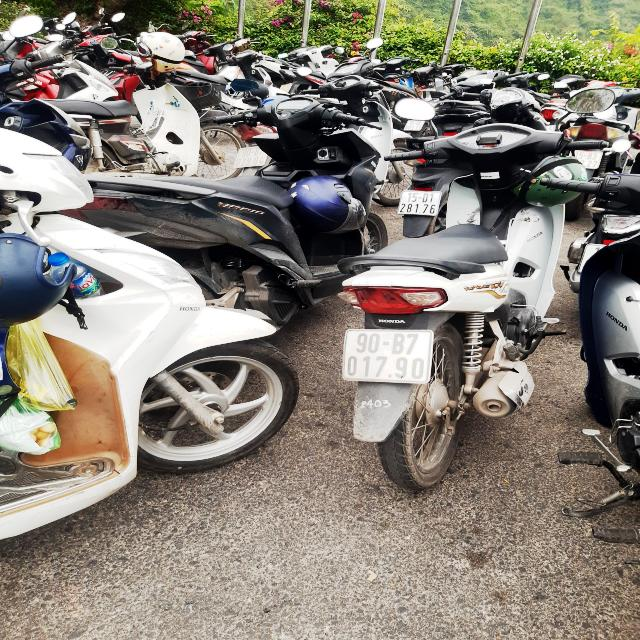license_plate: (332, 327, 442, 388), (395, 190, 445, 219), (402, 120, 428, 133)
